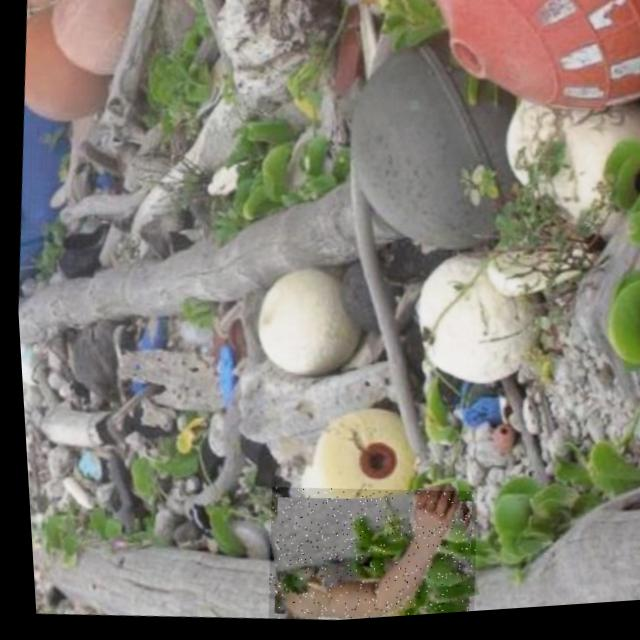Person in Rubble: (253, 479, 476, 628)
